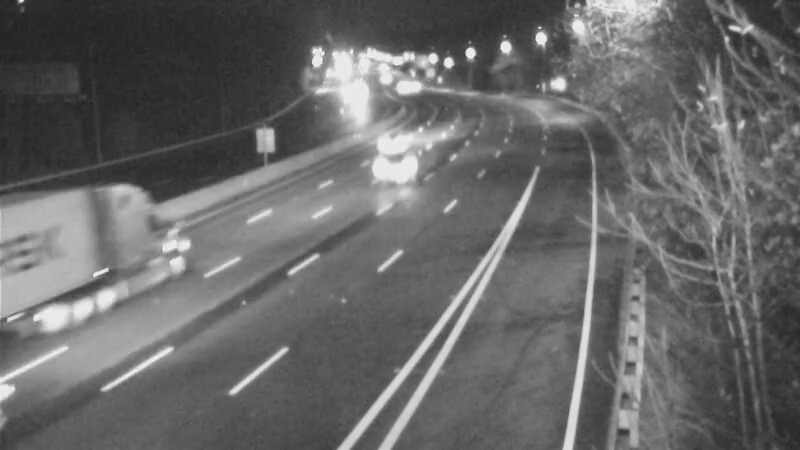vehicle: (360, 129, 440, 209), (17, 217, 97, 297), (366, 121, 416, 171)
